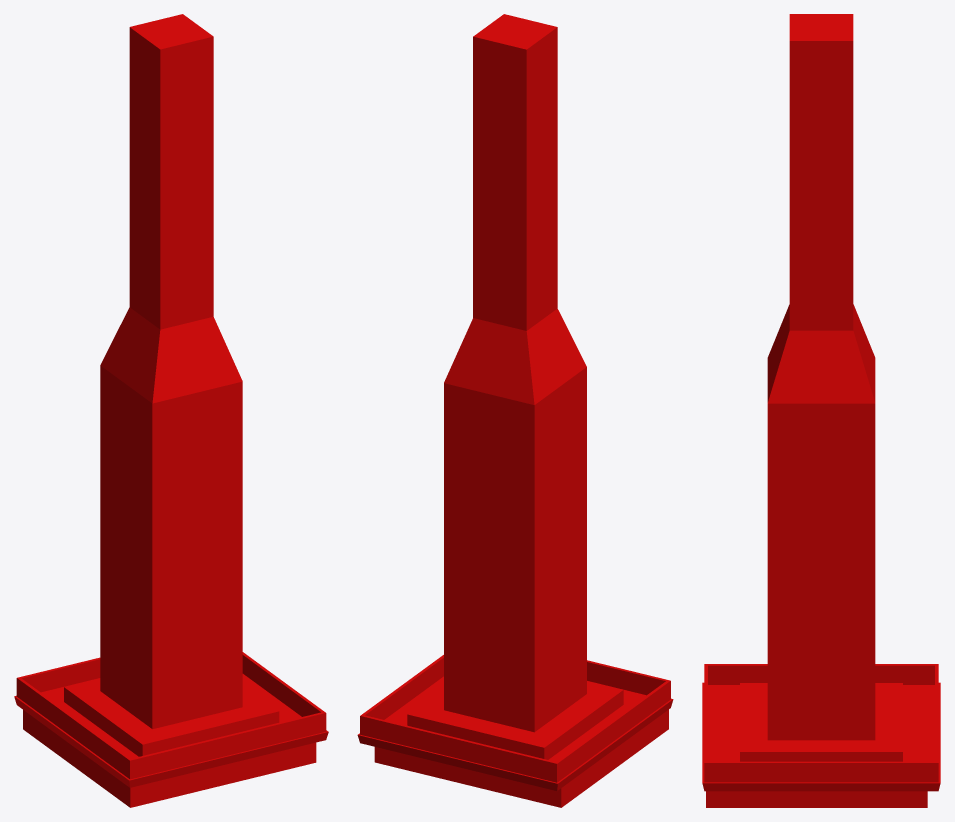
The model's file is SM_Bld_Crane_01_Collision.fbx.
3 views of the same model, side by side, from view 1: azimuth 30°, elevation 25°; view 2: azimuth 150°, elevation 25°; view 3: azimuth 270°, elevation 25° (orthographic). The views are drawn at different scales.
Visible parts, largest first — view 1: SM_Bld_Crane_01_Collision; view 2: SM_Bld_Crane_01_Collision; view 3: SM_Bld_Crane_01_Collision.
Part boxes in pixels (x1,y1,x2,y2): SM_Bld_Crane_01_Collision: (14,14,328,807); SM_Bld_Crane_01_Collision: (357,14,673,807); SM_Bld_Crane_01_Collision: (702,14,940,807).
Size of the model in its own units: 750 by 2556 by 750.
